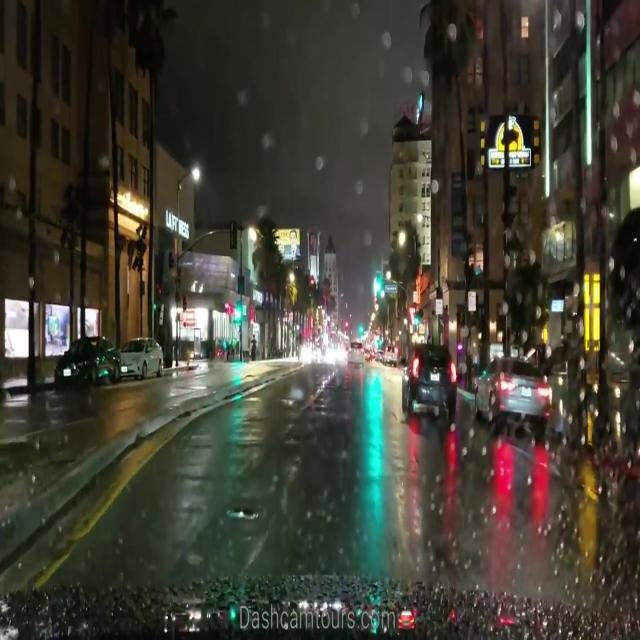Car: (475, 358, 550, 423), (402, 347, 457, 413), (51, 334, 120, 384), (121, 335, 162, 380), (347, 341, 363, 366)
